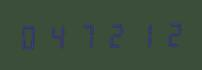four: (45, 20, 72, 50)
one: (130, 19, 157, 49)
seven: (74, 20, 101, 49)
two: (102, 19, 129, 49), (158, 19, 185, 48)
zero: (17, 21, 44, 50)
